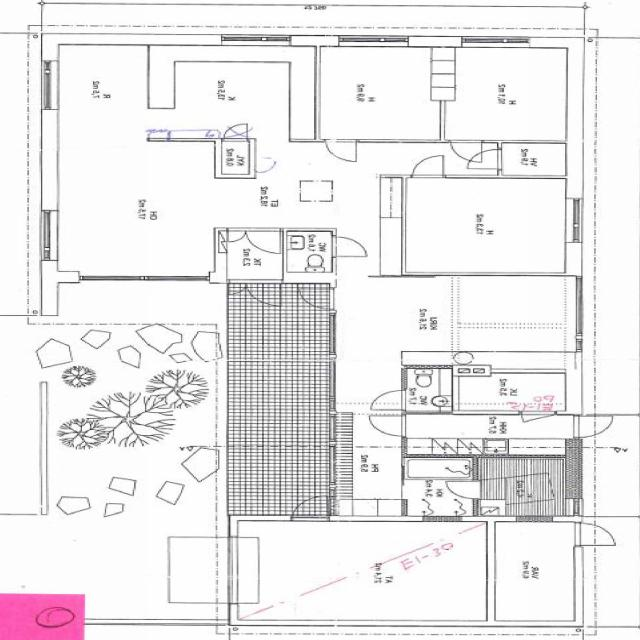door: (246, 273, 282, 304), (291, 493, 327, 521), (576, 522, 617, 545), (298, 289, 339, 310), (246, 227, 280, 252), (522, 410, 556, 435), (332, 236, 370, 256), (372, 390, 407, 410), (371, 416, 406, 436), (576, 416, 612, 435), (451, 140, 482, 162), (413, 156, 443, 178), (326, 140, 356, 162), (469, 149, 502, 168), (448, 482, 478, 498), (250, 157, 277, 170), (229, 273, 246, 292), (228, 227, 245, 242)
